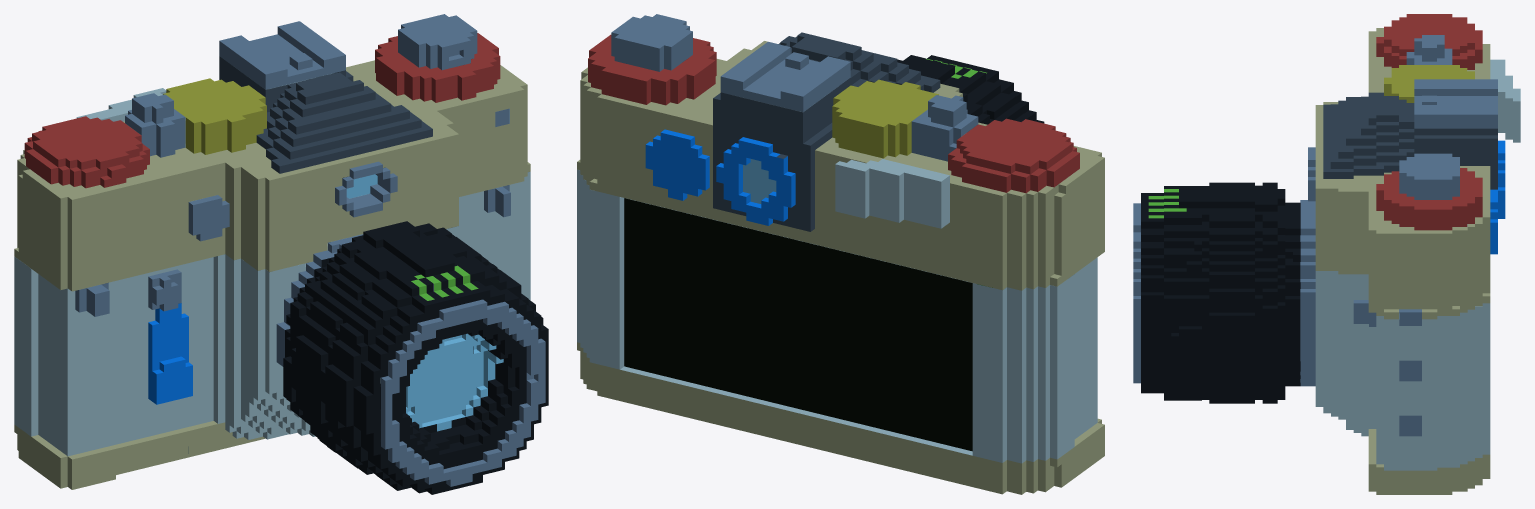
File: home_camara_01.gltf
The picture shows the model from 3 angles, left to right: view 1: azimuth 30°, elevation 25°; view 2: azimuth 150°, elevation 25°; view 3: azimuth 270°, elevation 25°; orthographic projection. The views are drawn at different scales.
Parts seen in each view (by area): view 1: voxcamrav3; view 2: voxcamrav3; view 3: voxcamrav3.
Part boxes in pixels (x1=…): voxcamrav3: x1=14, y1=14, x2=548, y2=494; voxcamrav3: x1=577, y1=14, x2=1104, y2=494; voxcamrav3: x1=1133, y1=14, x2=1520, y2=494.
Size of the model in its own units: 6.5 by 4.5 by 5.1.
